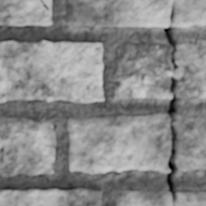brick: (0, 41, 103, 101), (0, 116, 54, 175), (0, 189, 101, 205), (0, 0, 50, 25)
broken_brick: (67, 112, 169, 174), (65, 0, 205, 28), (112, 41, 171, 99), (172, 112, 205, 171), (173, 41, 205, 100), (114, 190, 205, 205), (178, 190, 205, 192)
crack: (163, 2, 205, 203), (39, 0, 49, 11), (138, 95, 147, 98)
